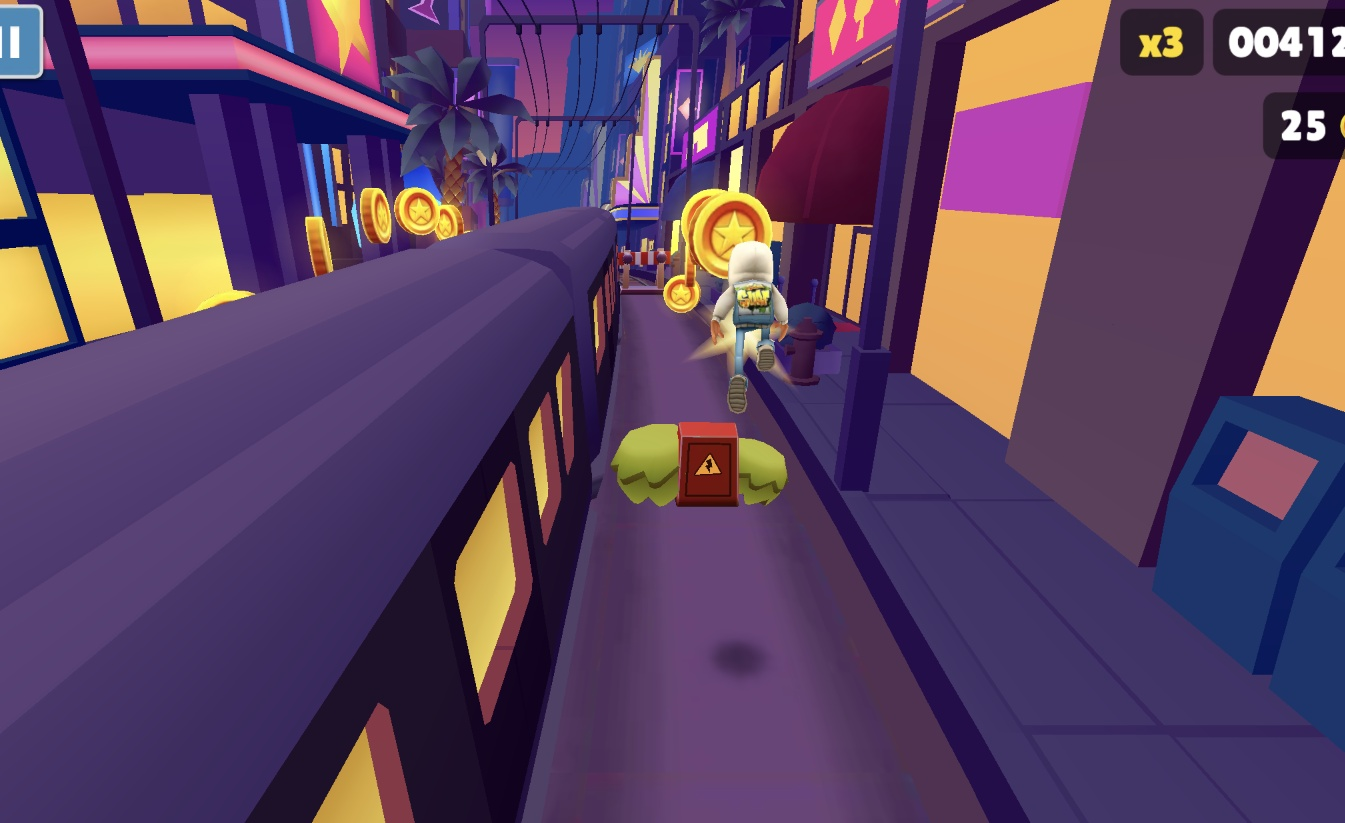bush: (608, 423, 676, 510), (741, 438, 792, 507)
ground_barrier: (617, 251, 665, 290)
small_obstacle: (676, 421, 741, 510)
train: (0, 213, 621, 823)
